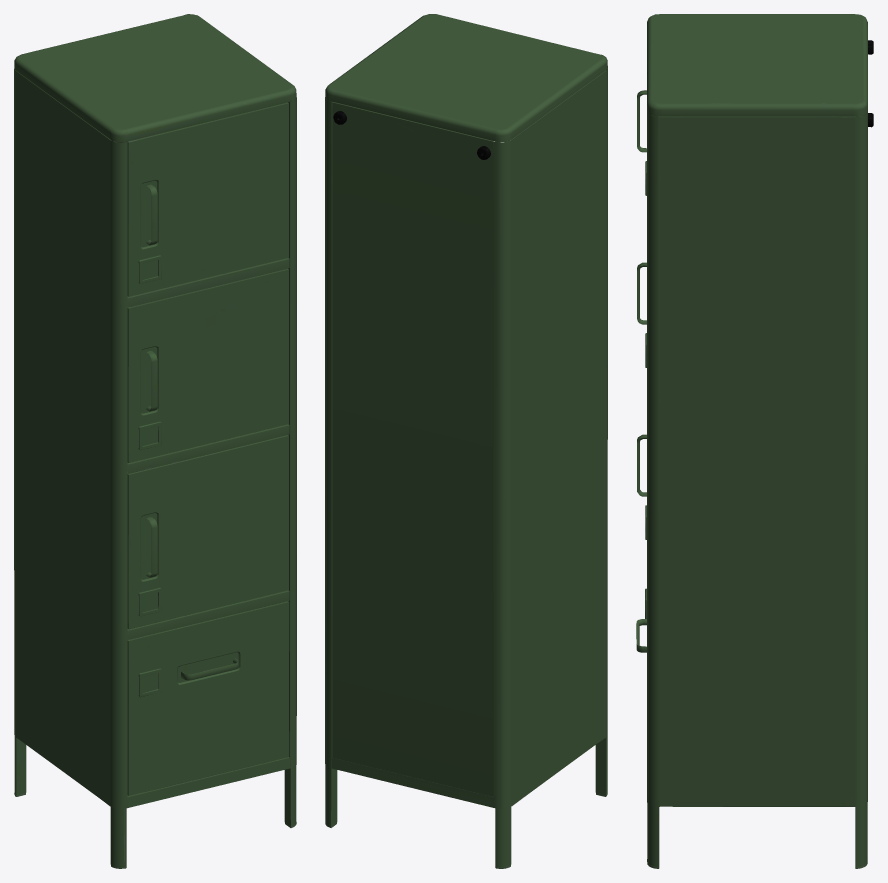
Rendered from idasen_szafka_wysoka_z_szuflada_i_drzwiami_10496401.glb.
The picture shows the model from 3 angles, left to right: view 1: azimuth 30°, elevation 25°; view 2: azimuth 150°, elevation 25°; view 3: azimuth 270°, elevation 25°; orthographic projection. The views are drawn at different scales.
Parts seen in each view (by area): view 1: idasen_szafka_wysoka_z_szuflada_i_drzwiami_10496401; view 2: idasen_szafka_wysoka_z_szuflada_i_drzwiami_10496401; view 3: idasen_szafka_wysoka_z_szuflada_i_drzwiami_10496401.
Boxes of the visible parts, x1,y1,x2,y2 form: idasen_szafka_wysoka_z_szuflada_i_drzwiami_10496401: (14,14,296,868); idasen_szafka_wysoka_z_szuflada_i_drzwiami_10496401: (325,14,607,868); idasen_szafka_wysoka_z_szuflada_i_drzwiami_10496401: (636,14,873,868).
Size of the model in its own units: 0.4502 by 1.72 by 0.4836.
Materials: 1 (1 with a texture image).
